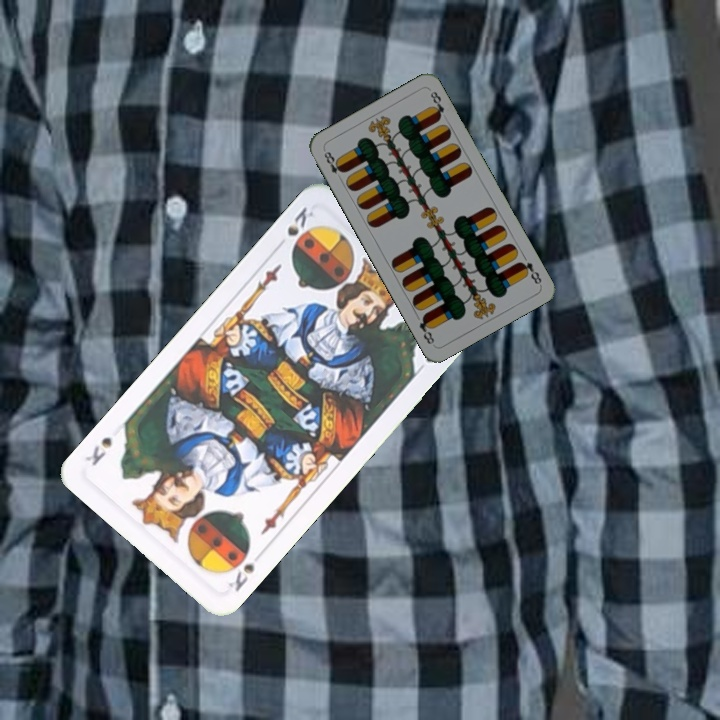E8: (514, 257, 544, 287), (320, 146, 347, 177)
SK: (283, 202, 317, 255), (221, 559, 258, 595)
